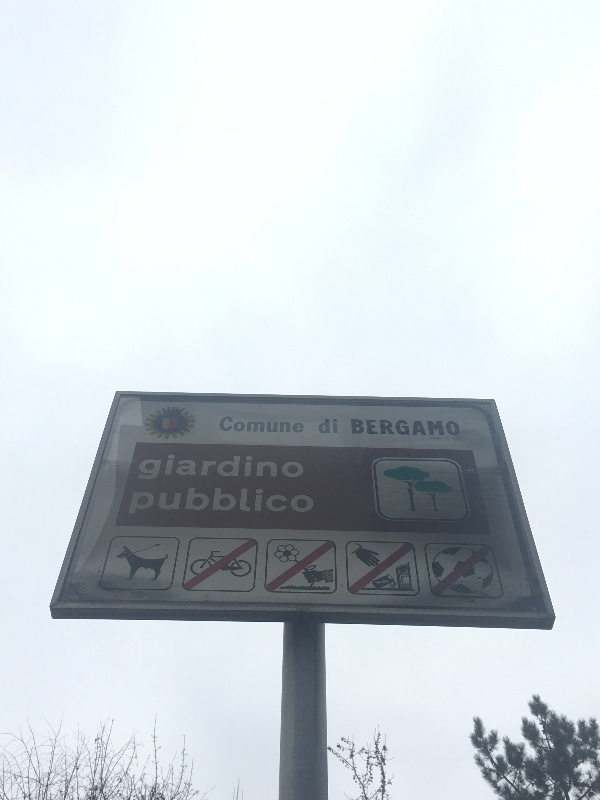text: (145, 482, 160, 520), (161, 482, 176, 520), (177, 482, 192, 520), (193, 482, 208, 520), (209, 482, 224, 520), (225, 482, 240, 520), (241, 482, 256, 520), (257, 482, 272, 520), (273, 482, 288, 520), (289, 482, 304, 520), (145, 451, 160, 487), (161, 451, 176, 487), (177, 451, 192, 487), (193, 451, 208, 487), (209, 451, 224, 487), (225, 451, 240, 487), (241, 451, 256, 487), (257, 451, 272, 487), (273, 451, 288, 487), (289, 451, 304, 487), (305, 482, 318, 520), (133, 482, 144, 520), (225, 414, 240, 435), (241, 414, 256, 435), (257, 414, 272, 435), (273, 414, 288, 435), (289, 414, 304, 435), (353, 417, 368, 437), (369, 417, 384, 437), (385, 417, 400, 437), (401, 417, 416, 437), (417, 417, 432, 437), (433, 417, 448, 437), (321, 417, 336, 435), (449, 417, 461, 437), (305, 451, 308, 487), (142, 451, 144, 487), (222, 414, 224, 435), (305, 414, 306, 435), (351, 417, 352, 437), (337, 417, 338, 435)
